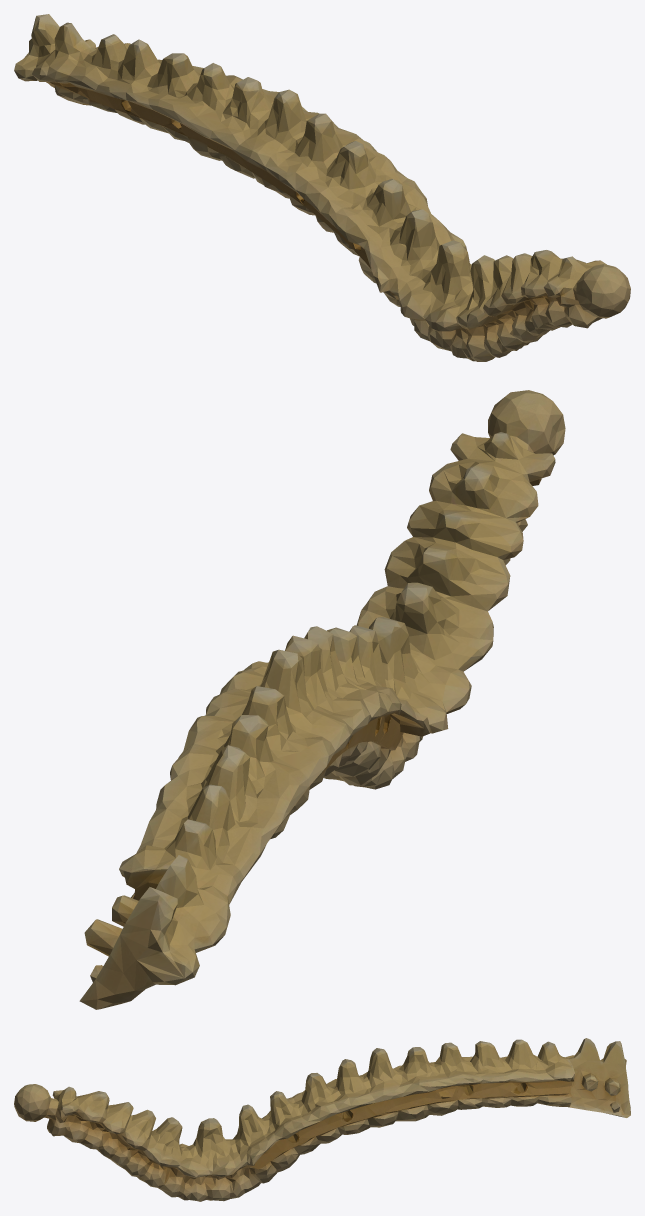
The model's file is bone2.glb.
3 renders of one model, top to bottom at view 1: azimuth 30°, elevation 25°; view 2: azimuth 150°, elevation 25°; view 3: azimuth 270°, elevation 25°, orthographic. The views are drawn at different scales.
Parts seen in each view (by area): view 1: tripo_node_3efa7160-2e68-4ff0-9f2f-29945167621a; view 2: tripo_node_3efa7160-2e68-4ff0-9f2f-29945167621a; view 3: tripo_node_3efa7160-2e68-4ff0-9f2f-29945167621a.
Part boxes in pixels (x1,y1,x2,y2): tripo_node_3efa7160-2e68-4ff0-9f2f-29945167621a: [14, 14, 630, 361]; tripo_node_3efa7160-2e68-4ff0-9f2f-29945167621a: [79, 390, 565, 1009]; tripo_node_3efa7160-2e68-4ff0-9f2f-29945167621a: [14, 1038, 630, 1201].
Bounding box in the file's own units: 0.2674 × 0.2306 × 0.9799.
Materials: 1 (1 with a texture image).
